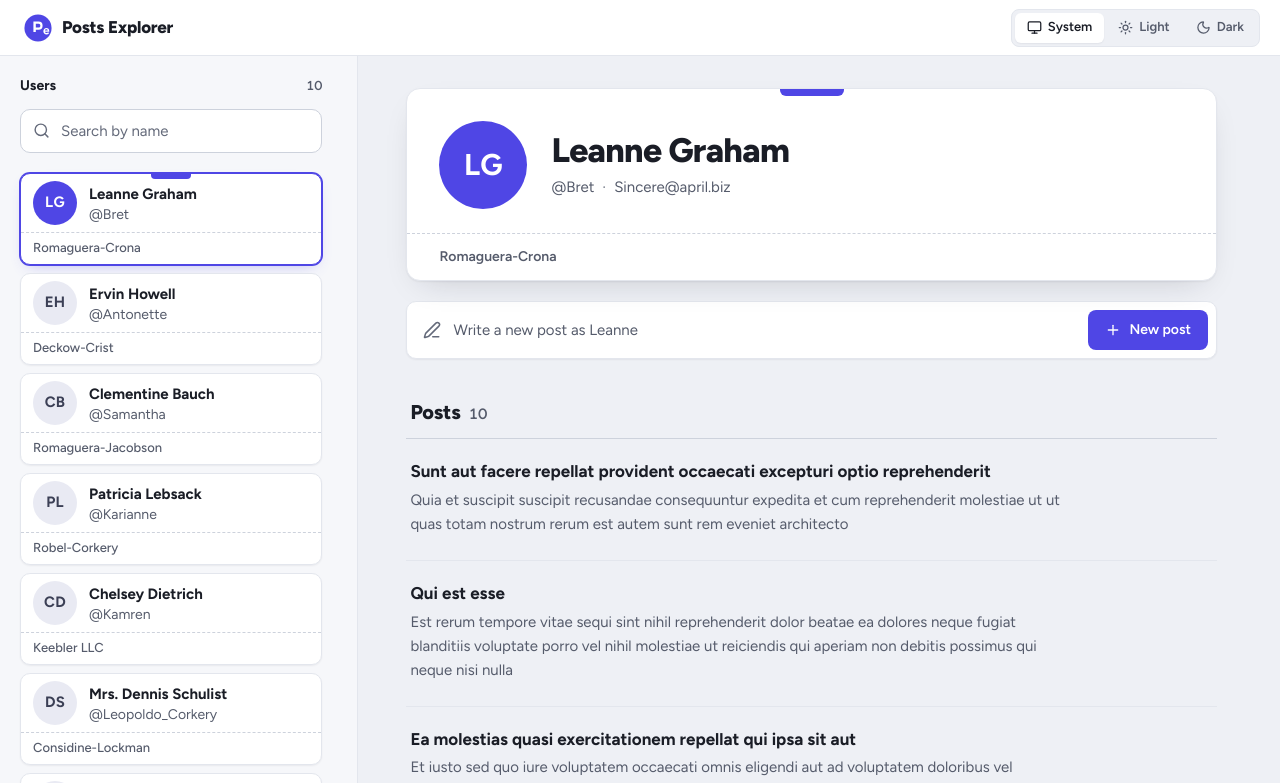
Create post › keeps the draft and explains why when publishing fails
Step 1. Click the button "Write a new post as Leanne New post" → x=546, y=330, box left=406, top=301, right=1217, bottom=359
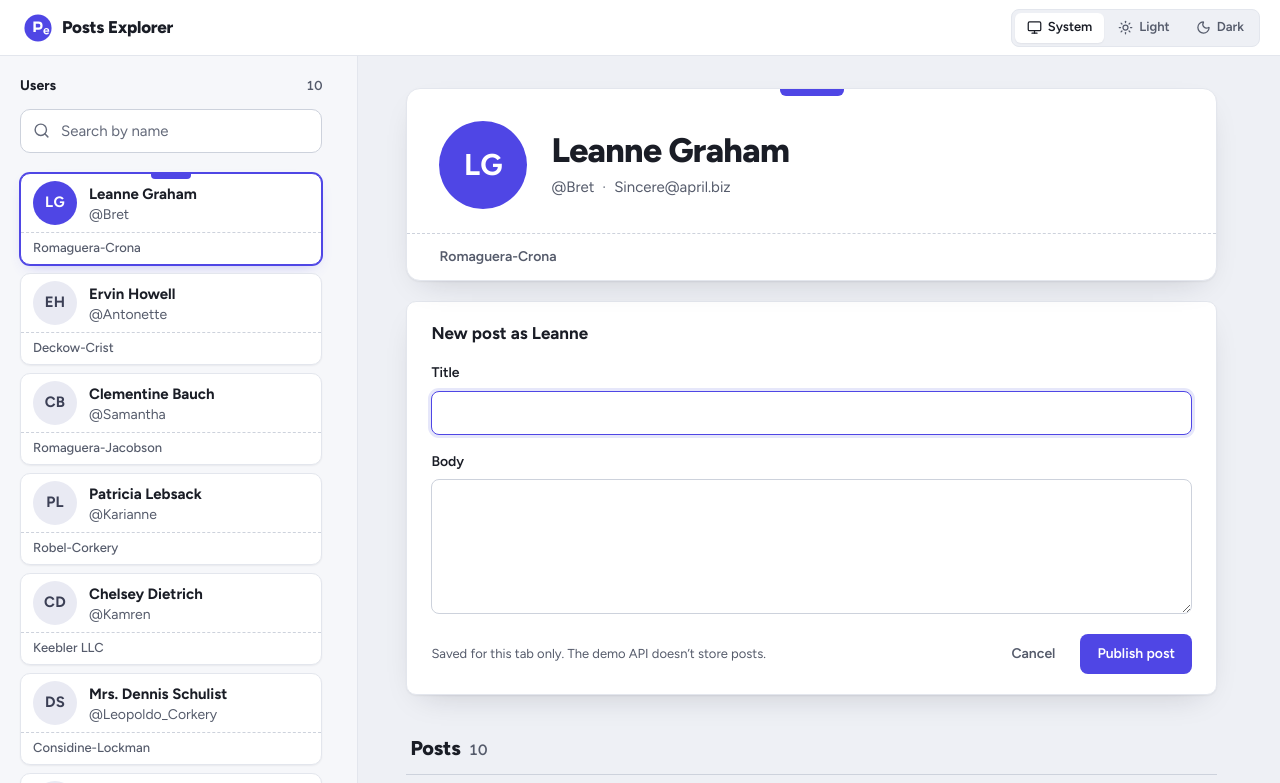
Step 2. Type "Lost in transit" into the field labelled "Title" → x=812, y=413, box left=431, top=391, right=1192, bottom=435
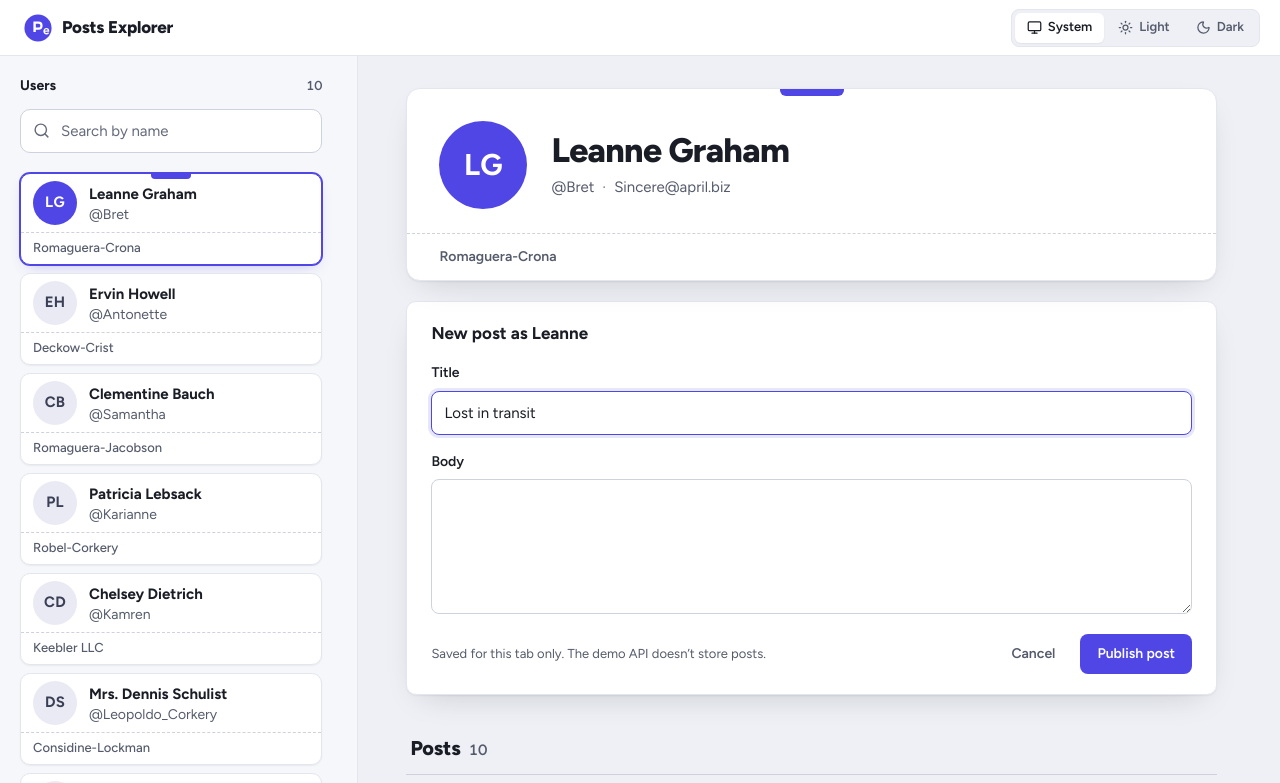
Step 3. Type "Will this make it?" into the text box labelled "Body" → x=812, y=547, box left=431, top=480, right=1192, bottom=614
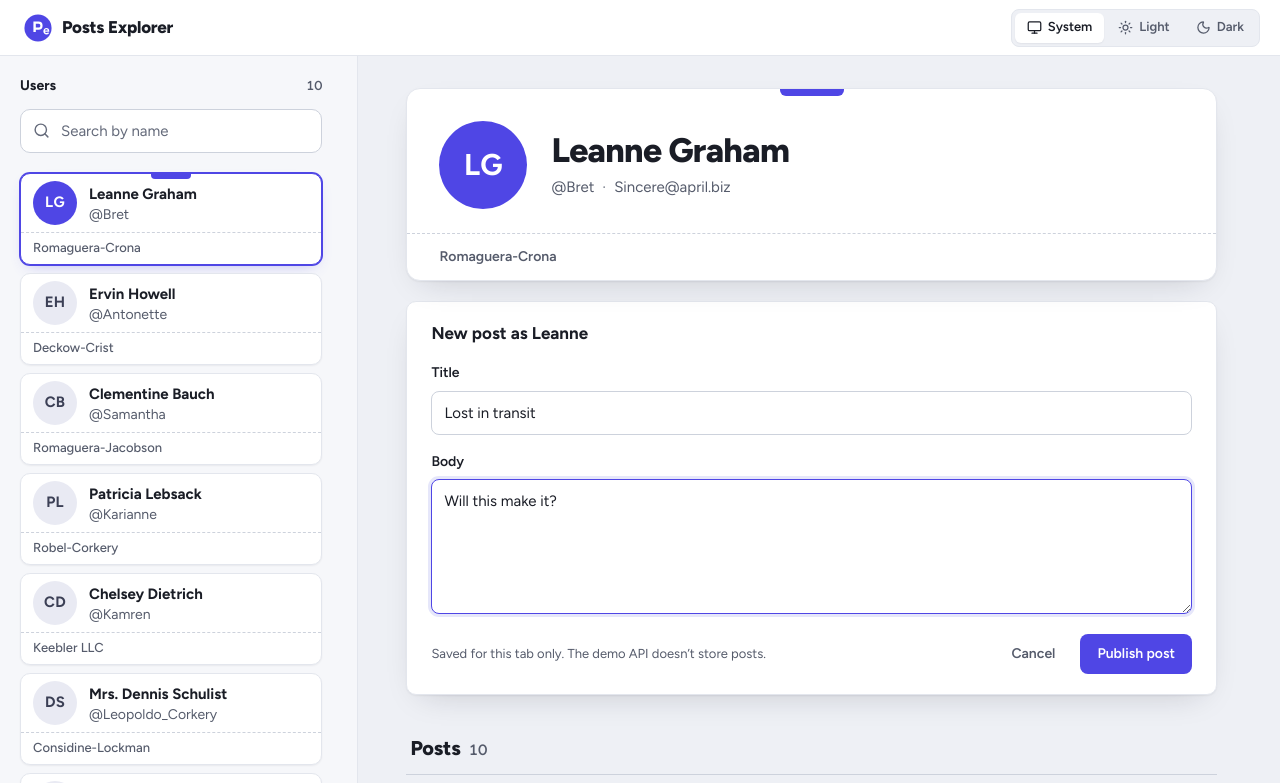
Step 4. Click the button "Publish post" → x=1136, y=654, box left=1080, top=634, right=1192, bottom=674
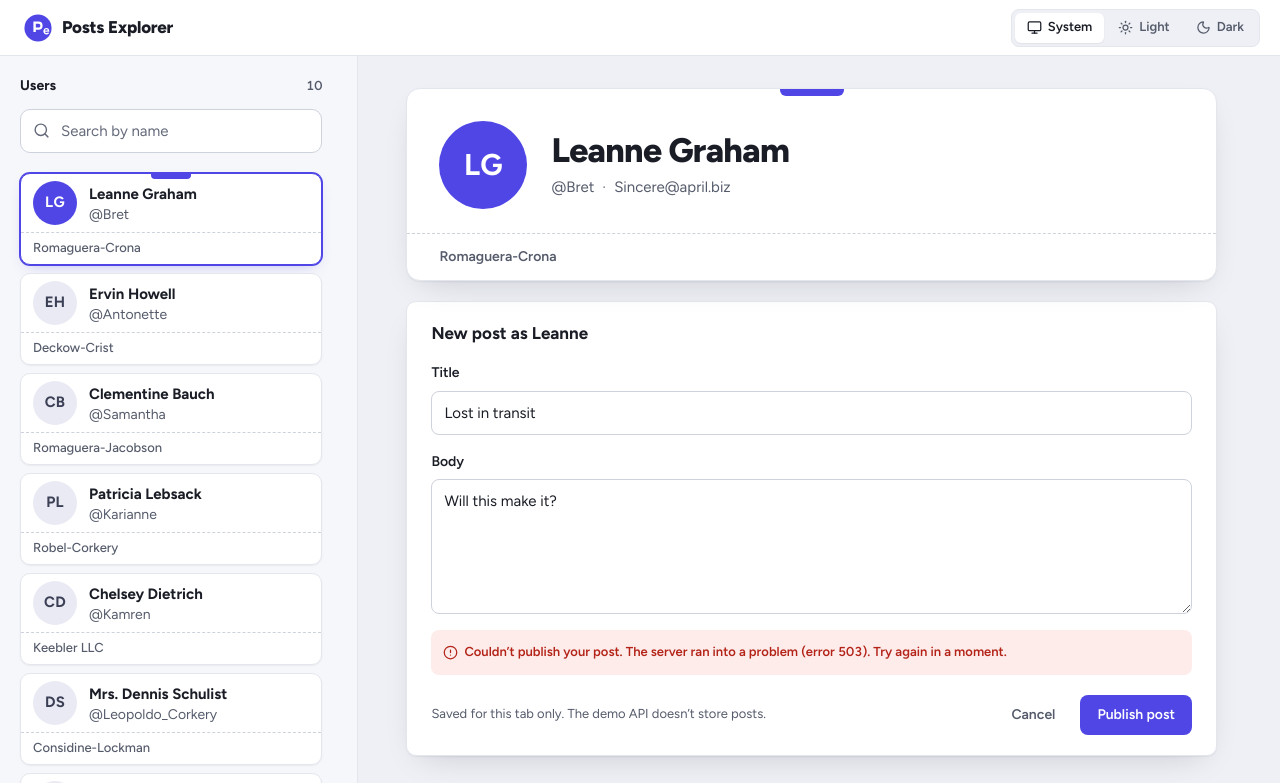
Expected: the message shows "Couldn’t publish your post. The server ran into a problem (error 503).", left=431, top=630, right=1192, bottom=675
